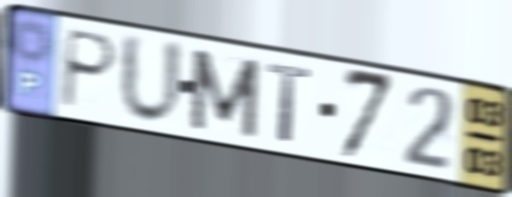2: (401, 85, 458, 172)
7: (338, 64, 397, 164)
M: (187, 45, 263, 142)
P: (56, 25, 121, 112)
T: (264, 60, 315, 147)
U: (117, 28, 185, 130)
